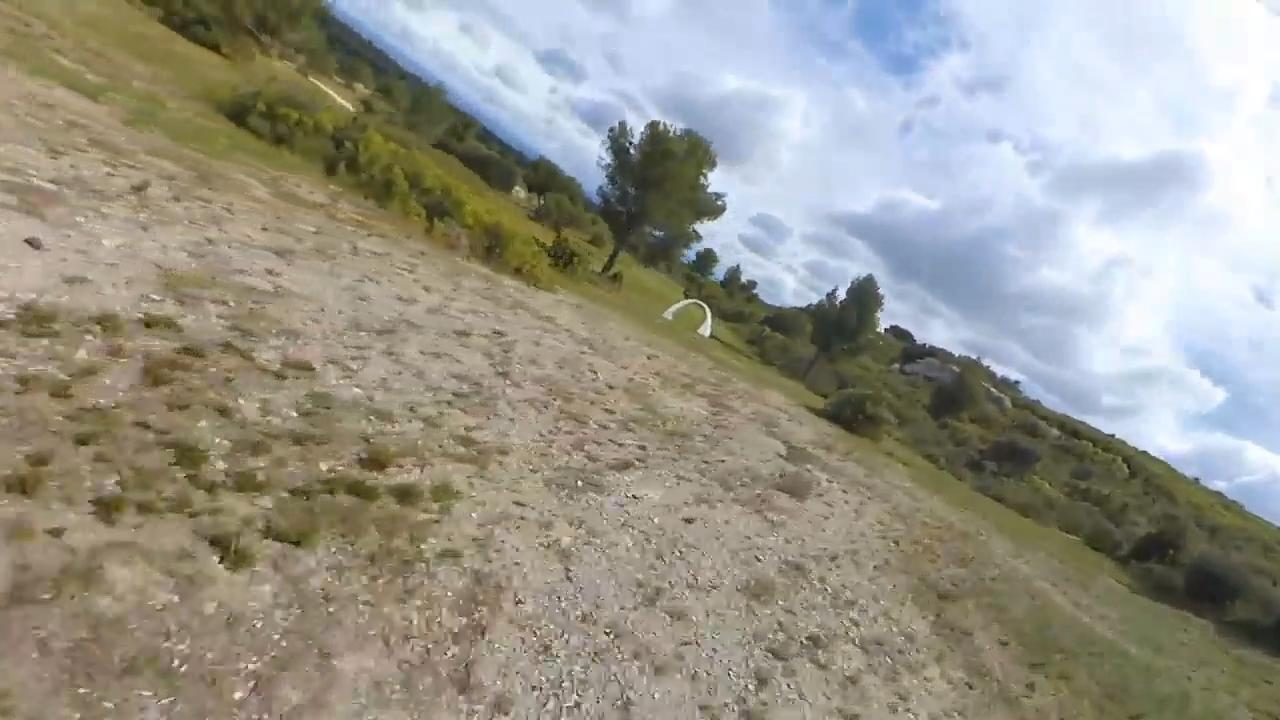gate: (663, 297, 713, 341)
